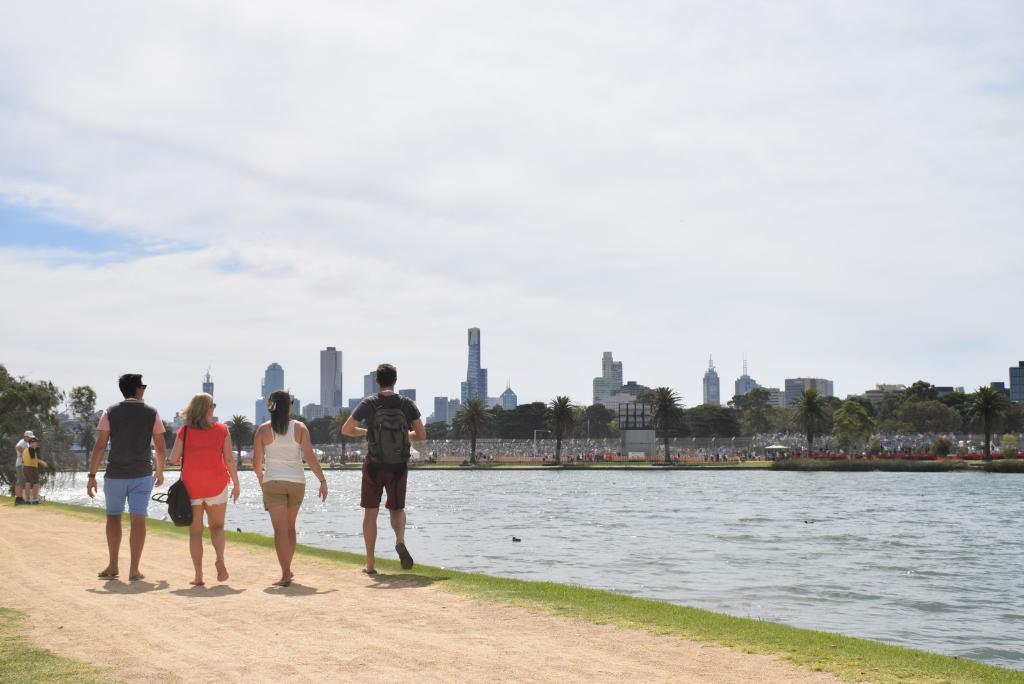Tree: (288, 376, 1020, 442), (0, 367, 99, 500), (954, 381, 1016, 461), (646, 383, 687, 461), (826, 396, 877, 456), (788, 385, 830, 455), (451, 400, 496, 460), (540, 388, 576, 459), (220, 410, 250, 469), (327, 406, 355, 463)
